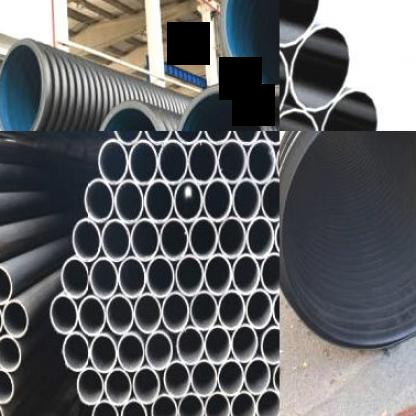pipe: (279, 131, 416, 349), (288, 26, 354, 112), (224, 0, 280, 87), (174, 83, 271, 131), (0, 44, 43, 131), (321, 86, 381, 131), (92, 100, 168, 131), (279, 0, 322, 47), (98, 139, 128, 185), (83, 179, 114, 223), (203, 178, 233, 223), (129, 140, 158, 186), (218, 139, 248, 183), (144, 180, 174, 224), (159, 140, 188, 185), (72, 219, 102, 262), (173, 179, 203, 222), (131, 218, 160, 262), (189, 140, 218, 184), (247, 140, 276, 184), (115, 180, 144, 224), (232, 179, 261, 222), (247, 216, 275, 260), (189, 218, 218, 260), (160, 218, 189, 260), (218, 216, 246, 258), (102, 220, 130, 262), (146, 256, 174, 298), (118, 256, 146, 298), (90, 257, 117, 300), (176, 255, 205, 295), (205, 254, 232, 296), (218, 290, 246, 330), (134, 293, 162, 333), (106, 294, 134, 334), (78, 296, 106, 336), (117, 332, 145, 372), (233, 254, 260, 295), (50, 296, 78, 335), (62, 332, 90, 371), (62, 258, 89, 298), (190, 291, 217, 331), (162, 292, 189, 332), (145, 332, 173, 370), (177, 326, 204, 365), (246, 289, 272, 329), (205, 325, 231, 365), (91, 334, 117, 374), (133, 367, 161, 404), (2, 300, 29, 338), (163, 361, 190, 398), (105, 369, 132, 406), (191, 360, 217, 398), (232, 325, 258, 362), (77, 368, 103, 405), (218, 360, 244, 396), (245, 358, 270, 395), (0, 335, 21, 372), (261, 178, 279, 221), (261, 252, 279, 294), (261, 326, 279, 363), (231, 390, 255, 416), (256, 389, 279, 416), (178, 393, 205, 416), (205, 392, 230, 416), (152, 394, 177, 416), (0, 265, 13, 304), (121, 399, 148, 416), (0, 369, 13, 404), (91, 400, 118, 416), (232, 131, 262, 145), (143, 131, 173, 144), (113, 131, 143, 144), (204, 131, 233, 144), (174, 131, 203, 144), (272, 289, 279, 329), (273, 360, 279, 395), (0, 299, 3, 337)
